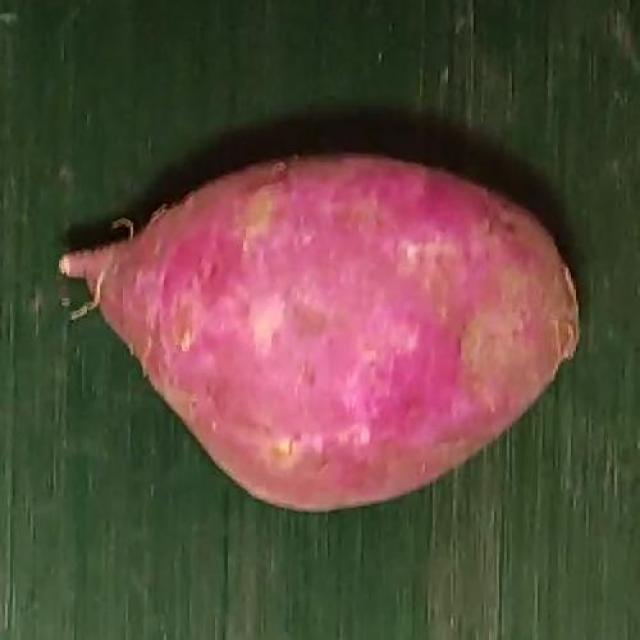Sweet Potato: (60, 155, 581, 512)
